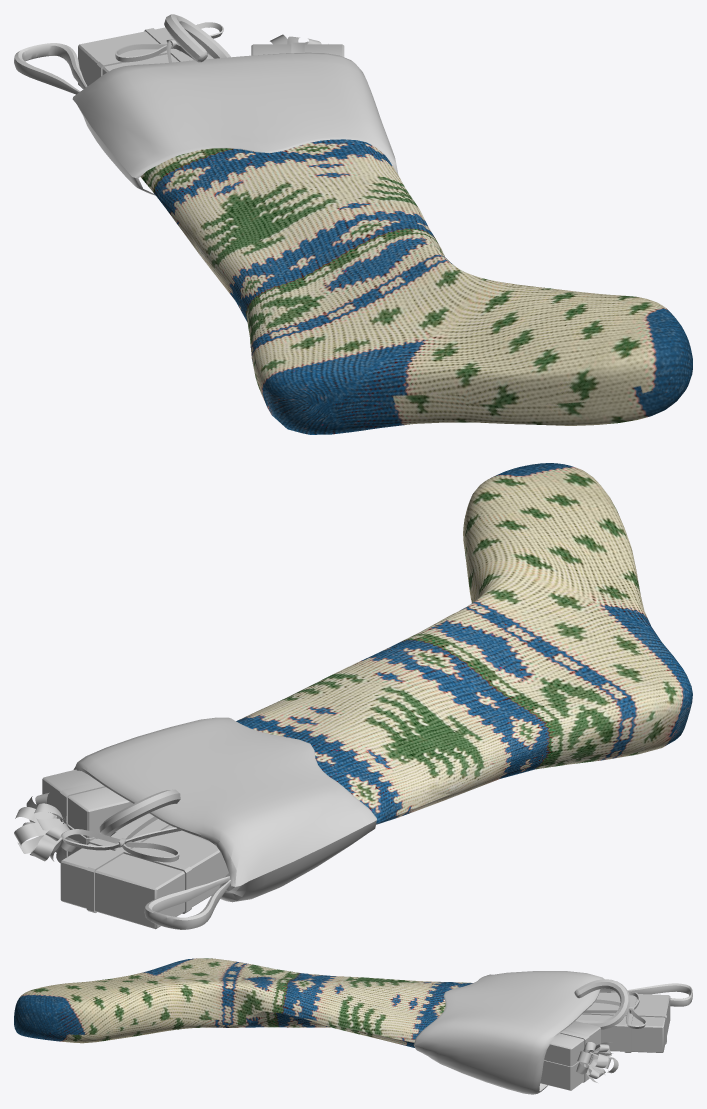
File: stocking_christmastree.gltf
3 views of the same model, one above another, from view 1: azimuth 30°, elevation 25°; view 2: azimuth 150°, elevation 25°; view 3: azimuth 270°, elevation 25° (orthographic). The views are drawn at different scales.
Parts seen in each view (by area): view 1: sock01 (×2); view 2: sock01 (×2); view 3: sock01 (×2).
Part boxes in pixels (<box>): sock01 (×2): <box>14,14,692,434</box>; sock01 (×2): <box>14,463,692,929</box>; sock01 (×2): <box>14,958,692,1094</box>.
Size of the model in its own units: 0.2029 by 0.0695 by 0.5037.
